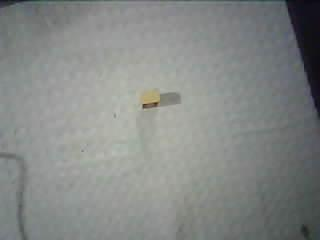lego: (136, 84, 161, 109)
